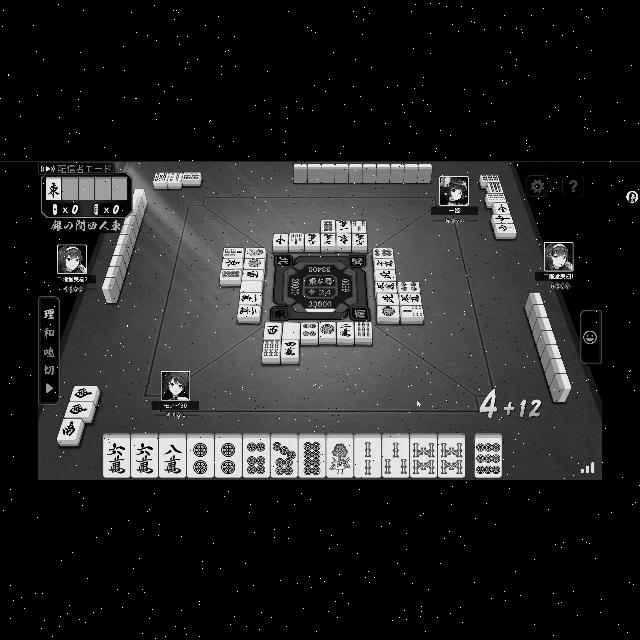1m: (241, 293, 259, 301), (338, 220, 349, 230)
1p: (320, 322, 336, 336), (381, 305, 397, 315), (246, 258, 262, 266)
1s: (328, 442, 352, 474), (246, 248, 264, 256)
2m: (339, 322, 353, 336), (239, 306, 257, 314)
2p: (189, 442, 211, 474), (218, 441, 238, 473)
2s: (358, 441, 378, 475)
3s: (384, 440, 408, 474), (402, 305, 422, 315), (352, 220, 366, 230)
4m: (284, 340, 296, 356)
4p: (302, 323, 318, 337), (400, 281, 418, 291)
4s: (169, 172, 181, 180)
5m: (376, 282, 396, 290), (401, 294, 421, 302)
5p: (154, 172, 168, 180)
6m: (134, 442, 156, 474), (107, 442, 127, 474)
6p: (246, 441, 266, 474), (374, 248, 392, 256)
6s: (263, 340, 279, 356), (183, 172, 199, 178)
7m: (376, 259, 394, 267), (322, 232, 333, 244)
7p: (272, 440, 296, 474)
7s: (224, 247, 242, 255), (290, 232, 302, 244)
8m: (162, 441, 182, 475)
8p: (302, 441, 322, 475), (220, 269, 240, 277), (322, 220, 333, 230)
8s: (412, 440, 436, 474), (441, 441, 464, 474)
9m: (354, 232, 366, 244), (306, 232, 318, 244)
9p: (476, 442, 500, 472)
9s: (357, 321, 371, 337), (487, 193, 505, 200), (490, 182, 502, 192), (482, 174, 498, 180)
chun: (274, 232, 286, 244), (495, 213, 511, 220), (498, 223, 514, 230), (497, 202, 508, 212)
haku: (284, 323, 298, 337), (243, 280, 259, 290)
nan: (69, 402, 89, 414), (62, 420, 76, 436), (74, 387, 94, 398)
pe: (381, 293, 397, 303), (379, 270, 393, 278)
sha: (266, 324, 280, 336), (246, 270, 262, 278)
tou: (47, 180, 61, 198), (223, 258, 241, 266), (338, 232, 350, 244)
